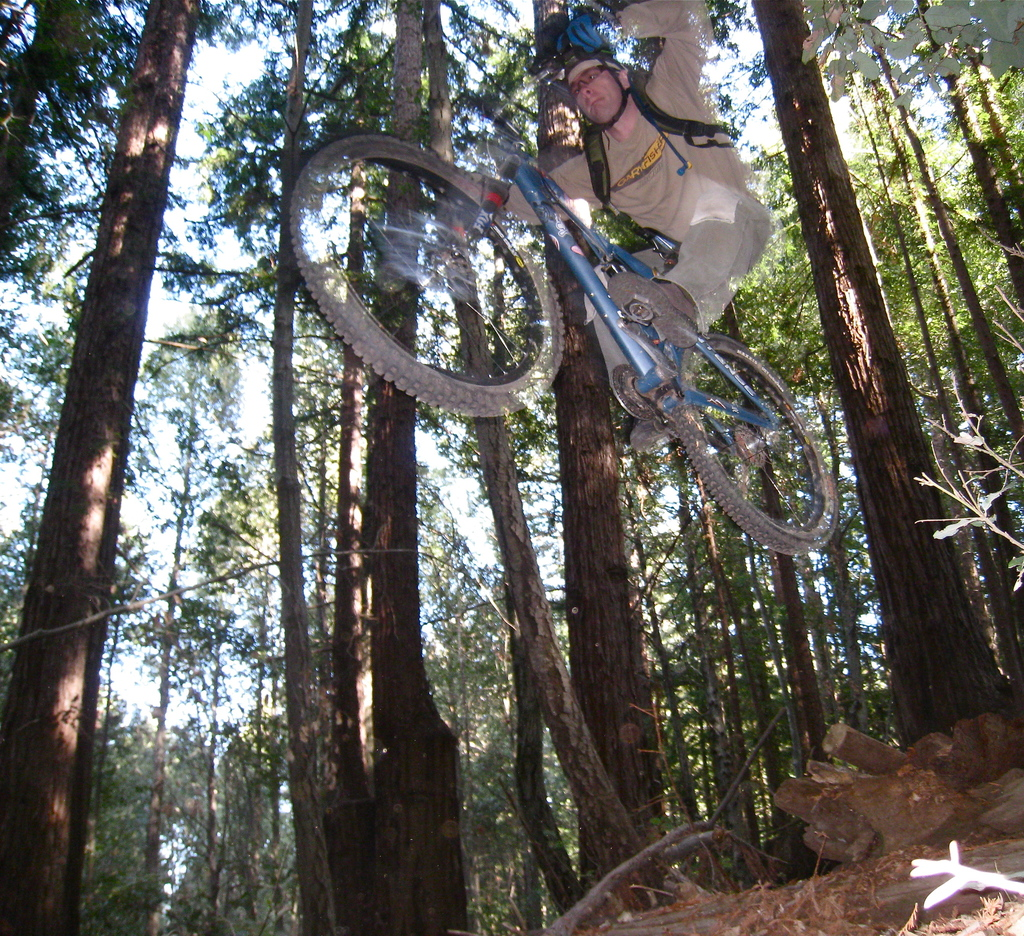bicycle: (290, 59, 843, 556)
